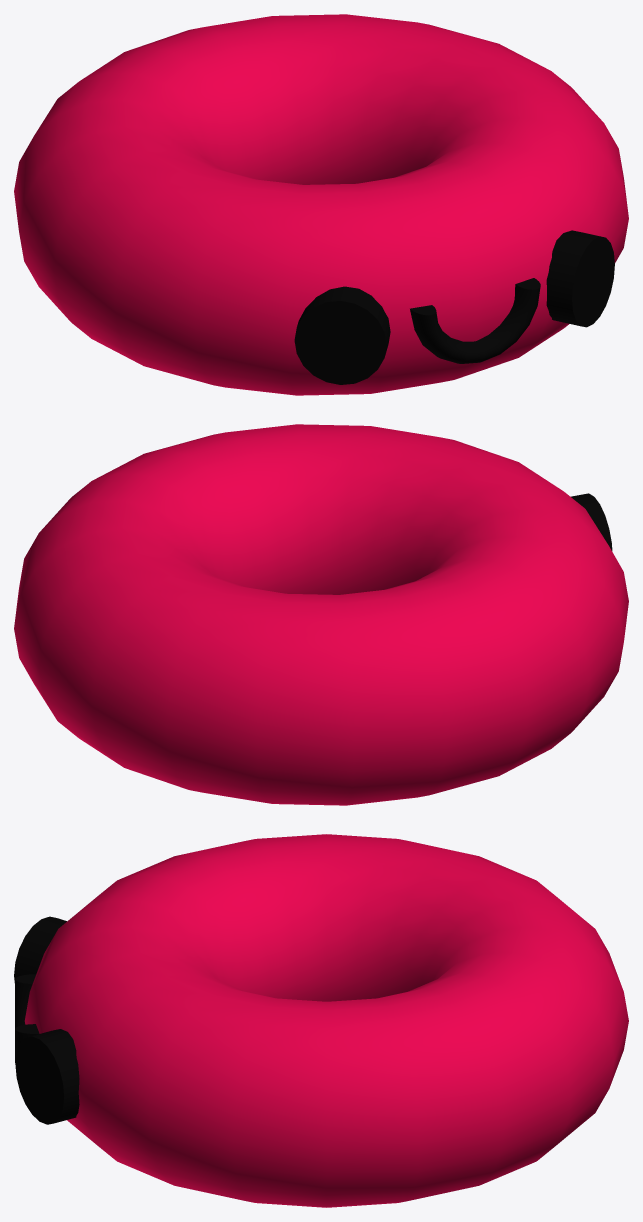
File: RED.fbx
The picture shows the model from 3 angles, top to bottom: view 1: azimuth 30°, elevation 25°; view 2: azimuth 150°, elevation 25°; view 3: azimuth 270°, elevation 25°; orthographic projection. The views are drawn at different scales.
Parts seen in each view (by area): view 1: pTorus5; view 2: pTorus5; view 3: pTorus5.
Part boxes in pixels (x1,y1,x2,y2): pTorus5: [14, 14, 628, 395]; pTorus5: [14, 424, 628, 805]; pTorus5: [14, 834, 628, 1207].
Bounding box in the file's own units: 9.09 × 3.12 × 9.25.
